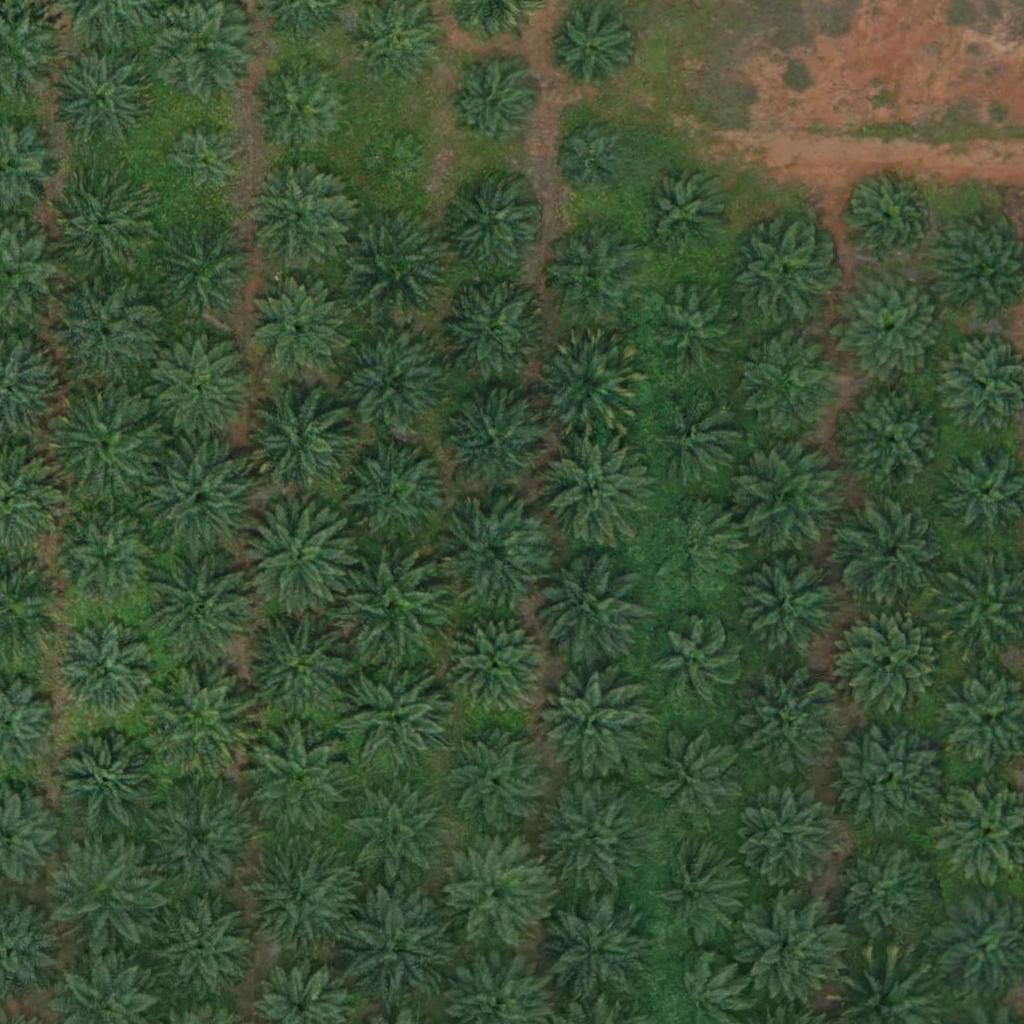Kelapa_Sawit: (146, 548, 259, 662), (244, 724, 357, 838), (835, 272, 948, 386), (839, 384, 952, 498), (337, 779, 450, 893), (339, 889, 452, 1003), (247, 844, 360, 958), (533, 328, 646, 441), (436, 169, 549, 282), (50, 381, 163, 494), (147, 441, 260, 554), (241, 502, 354, 615), (243, 611, 356, 724), (537, 432, 650, 545), (532, 549, 645, 662), (536, 671, 649, 784), (734, 779, 847, 892), (736, 893, 849, 1006), (147, 673, 259, 787), (437, 277, 549, 390), (338, 206, 450, 319), (336, 328, 448, 441), (48, 278, 160, 391), (143, 782, 255, 895), (244, 382, 356, 495), (334, 435, 446, 548), (333, 551, 445, 664), (341, 665, 453, 778), (436, 498, 548, 611), (440, 722, 552, 835), (539, 779, 651, 892), (737, 442, 849, 555), (735, 550, 847, 663), (839, 499, 951, 612), (838, 723, 950, 836), (829, 839, 941, 952), (538, 894, 650, 1007), (438, 837, 550, 950), (46, 836, 158, 949), (541, 225, 641, 326), (254, 56, 354, 157), (246, 164, 346, 265), (246, 275, 346, 376), (153, 220, 253, 321), (151, 336, 251, 437), (51, 43, 151, 144), (48, 176, 148, 277), (60, 734, 160, 835), (442, 390, 542, 491), (445, 613, 545, 714), (743, 674, 843, 775), (841, 610, 941, 711), (648, 840, 748, 941), (154, 899, 254, 1000), (55, 621, 155, 721), (734, 224, 834, 324), (747, 334, 847, 434), (546, 7, 634, 95), (641, 169, 729, 257), (61, 518, 149, 606), (652, 399, 740, 487), (657, 289, 744, 377), (448, 59, 535, 147), (656, 503, 743, 591), (651, 617, 738, 705), (652, 733, 739, 821), (842, 172, 929, 260), (164, 126, 239, 201), (559, 127, 622, 190), (361, 130, 423, 193)
